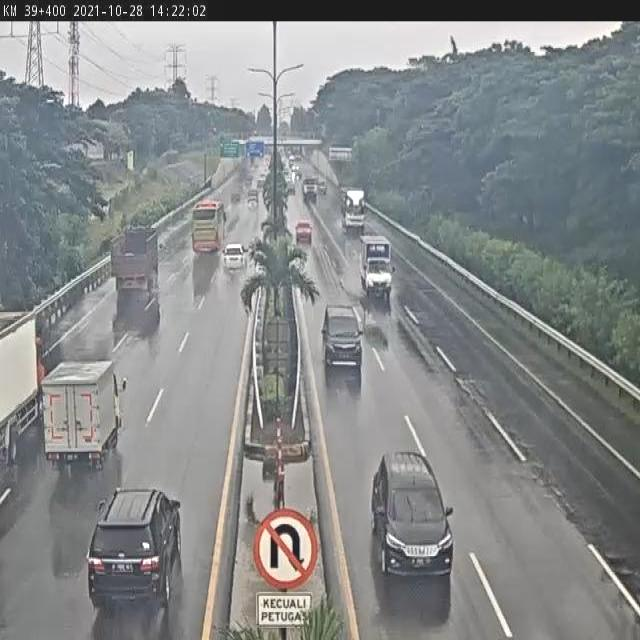Bus: (189, 196, 228, 256)
Car: (84, 481, 186, 619), (366, 447, 458, 597), (322, 304, 366, 374), (222, 242, 248, 272), (294, 221, 314, 247), (247, 188, 260, 211)
Truck: (43, 350, 127, 482), (1, 290, 43, 489), (110, 219, 160, 294), (355, 230, 396, 299), (340, 186, 368, 234), (302, 178, 318, 204)
